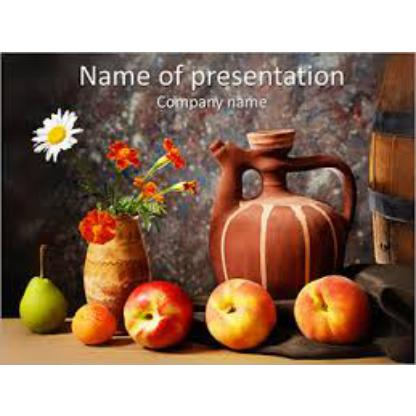apple: (200, 278, 272, 346), (292, 276, 362, 336), (122, 282, 186, 344), (20, 278, 68, 322), (71, 300, 115, 344)
